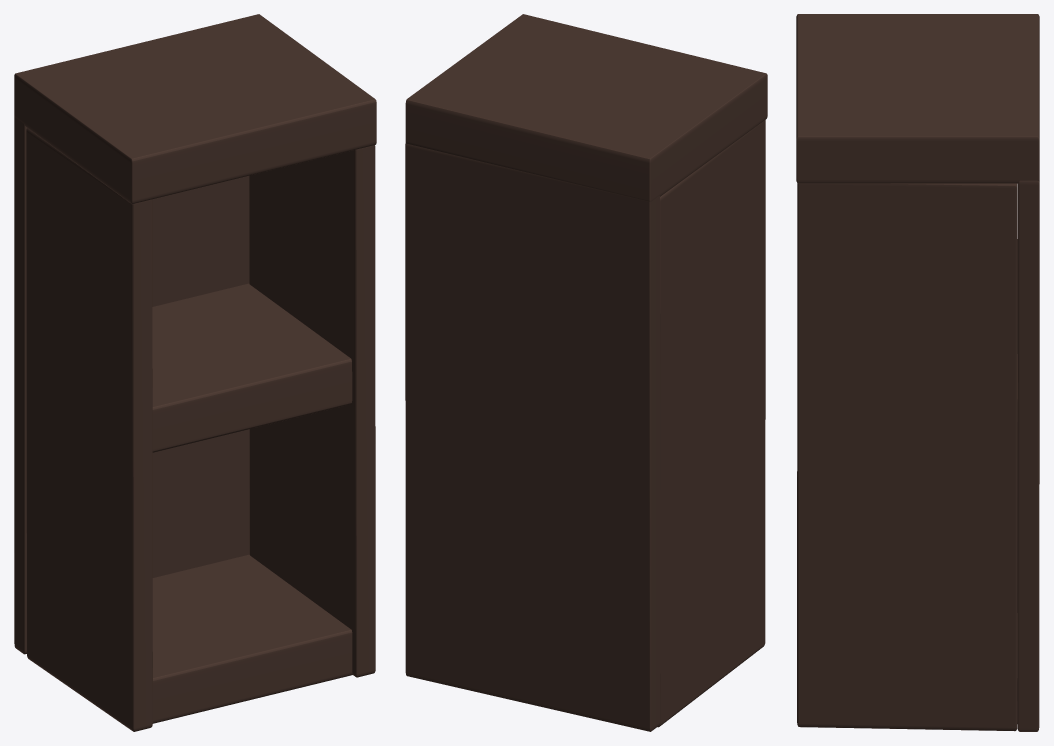
The model's file is Tavern_Stand_FBX.fbx.
3 views of the same model, side by side, from view 1: azimuth 30°, elevation 25°; view 2: azimuth 150°, elevation 25°; view 3: azimuth 270°, elevation 25° (orthographic). The views are drawn at different scales.
Parts seen in each view (by area): view 1: stool_objwip:stool_objwip:StandingCuboard; view 2: stool_objwip:stool_objwip:StandingCuboard; view 3: stool_objwip:stool_objwip:StandingCuboard.
Part boxes in pixels (<box>): stool_objwip:stool_objwip:StandingCuboard: <box>14,14,376,731</box>; stool_objwip:stool_objwip:StandingCuboard: <box>405,14,767,731</box>; stool_objwip:stool_objwip:StandingCuboard: <box>796,14,1039,731</box>.
Size of the model in its own units: 63.69 by 143 by 53.07.
